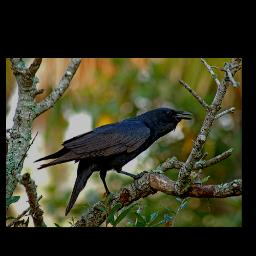Crow: (32, 107, 194, 217)
